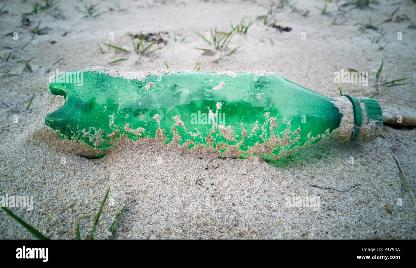Plastic Bottle: (44, 66, 384, 162)
